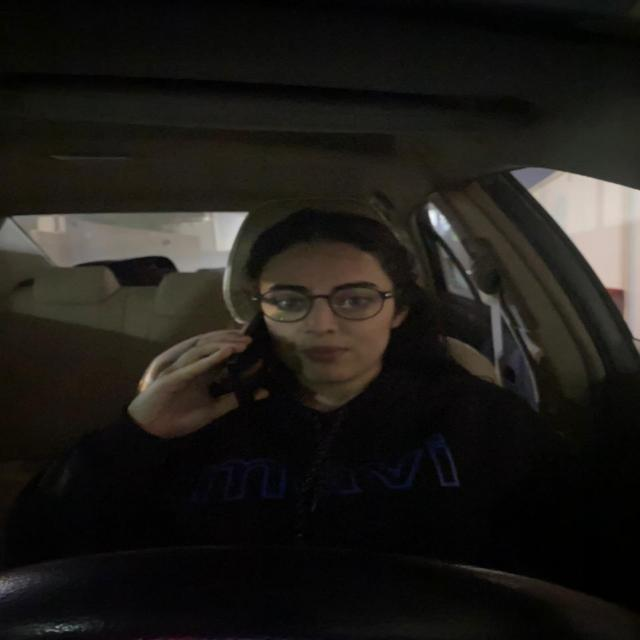mobile: (204, 312, 279, 399)
person: (260, 213, 424, 385)
